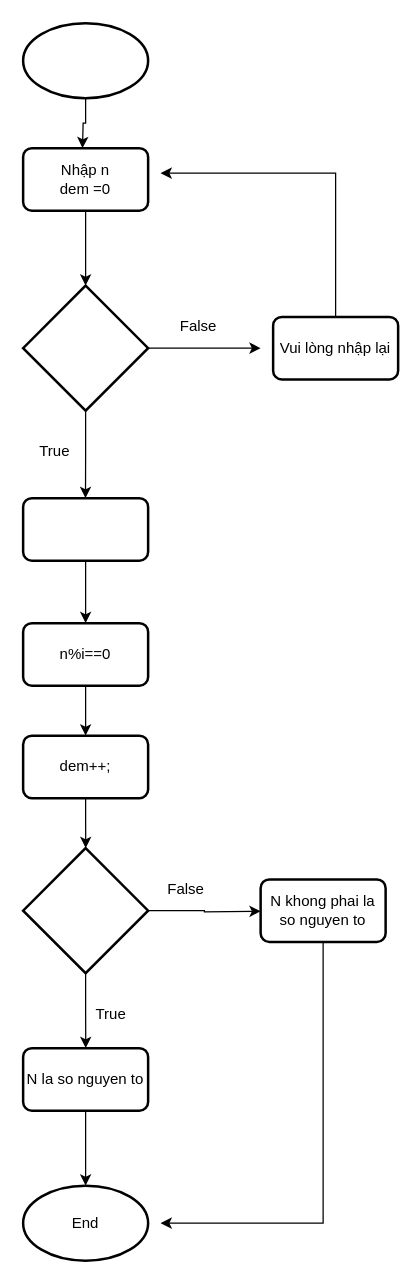
The diagram is 420 pixels wide and 1283 high, and some of its shapes have lost their labels. Here are the shapes that lost their labels. From the top down, the centre of each, then its label:
point 85,60: Start
point 85,347: n>0
point 85,528: i=0;i<=n;i++
point 85,910: dem==2
